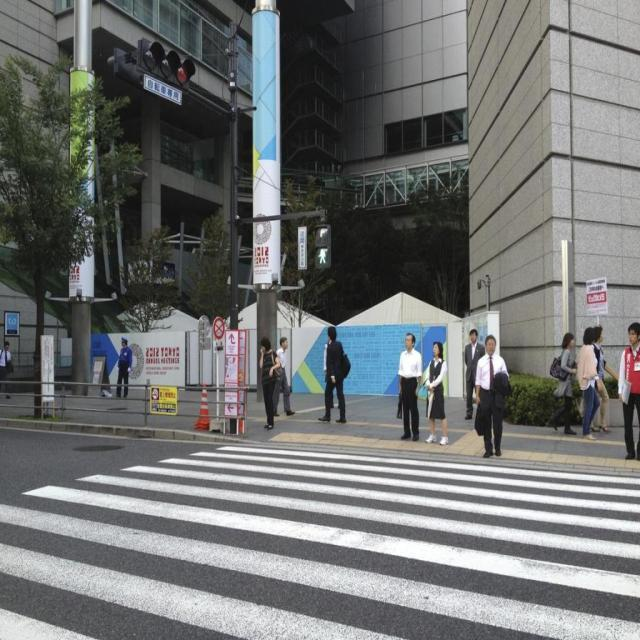traffic light: (135, 48, 198, 82)
